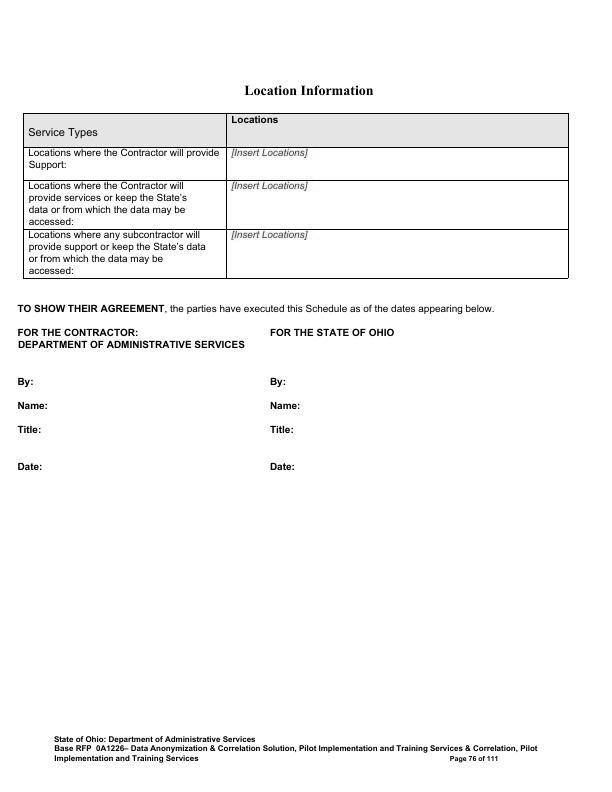input: (12, 453, 174, 487), (265, 452, 400, 481), (15, 423, 174, 447), (13, 371, 174, 394), (12, 399, 176, 417), (266, 422, 386, 445), (269, 369, 376, 391), (268, 396, 380, 416)
table: (22, 110, 578, 286)
text: (13, 297, 504, 353), (49, 728, 546, 771), (237, 81, 377, 98)
